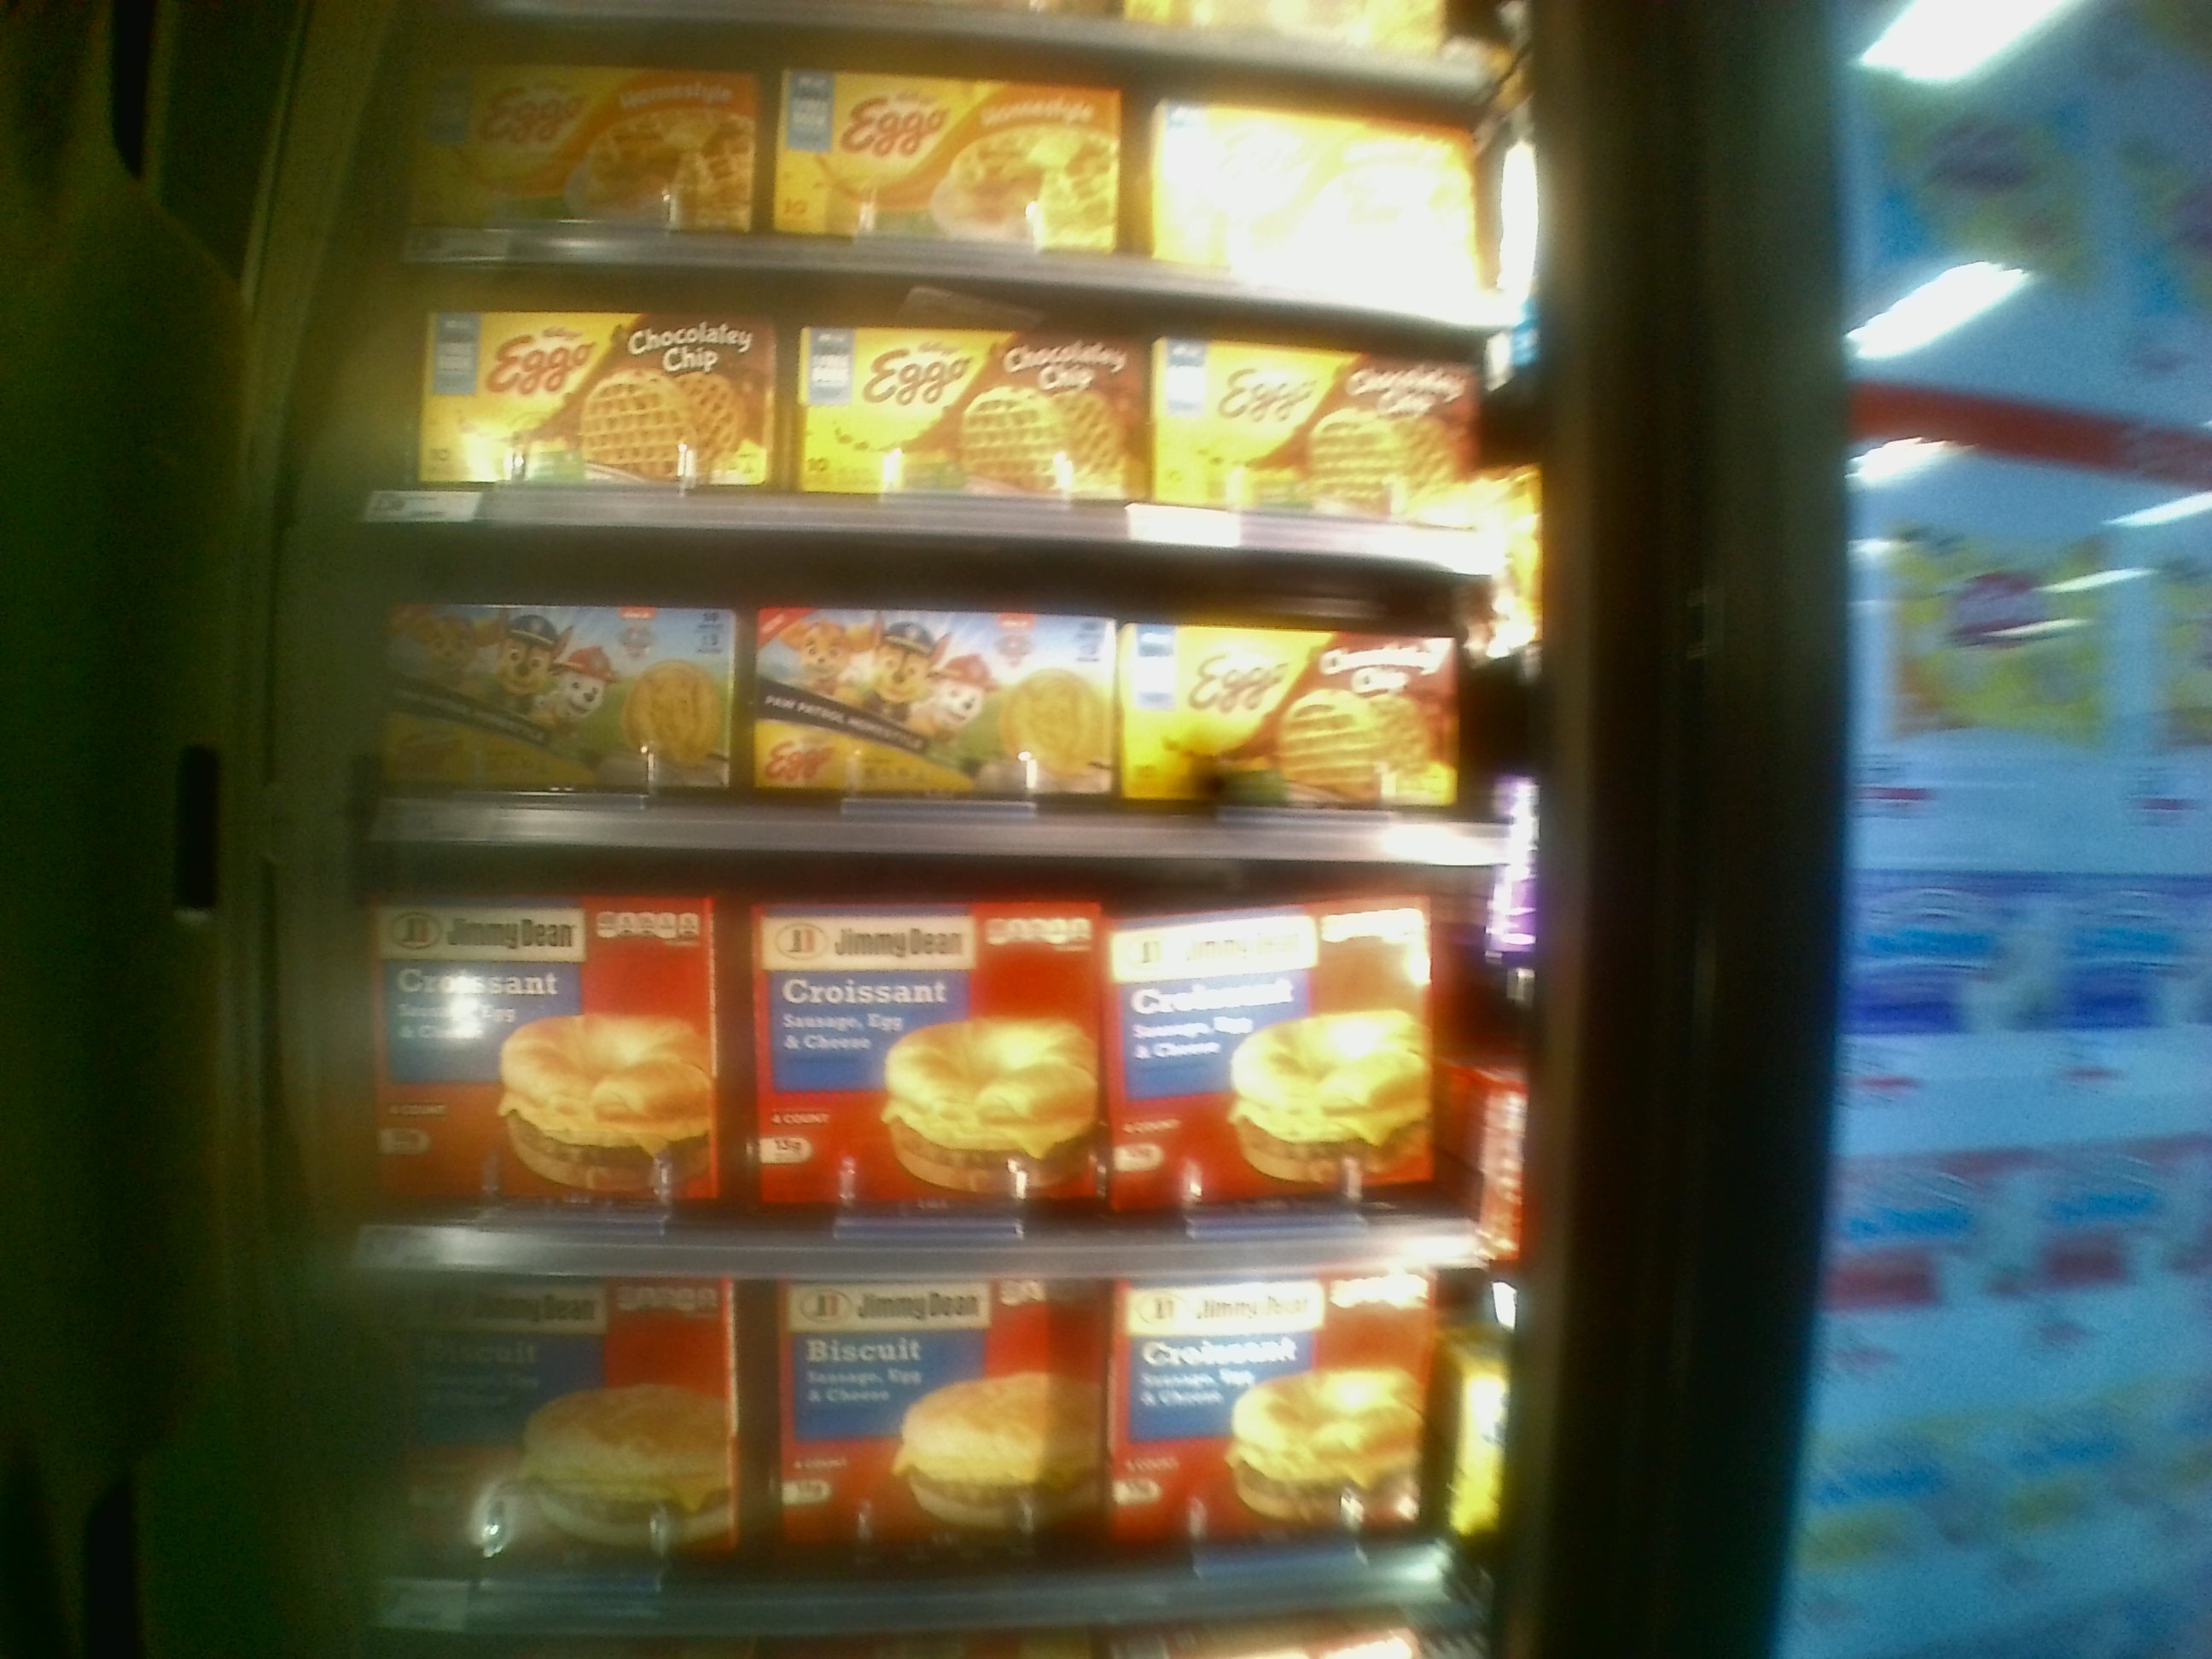shelf: (364, 892, 1486, 1274), (368, 1281, 1451, 1659), (366, 558, 1526, 870), (361, 268, 1512, 566)
